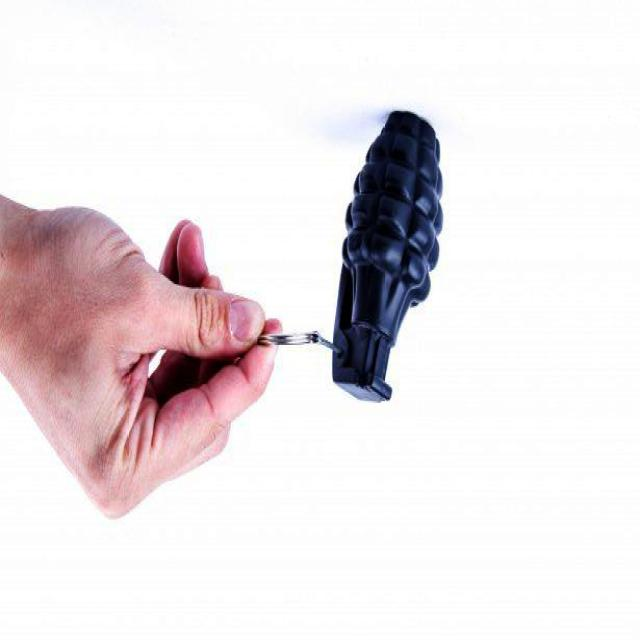grenade: (333, 112, 445, 404)
